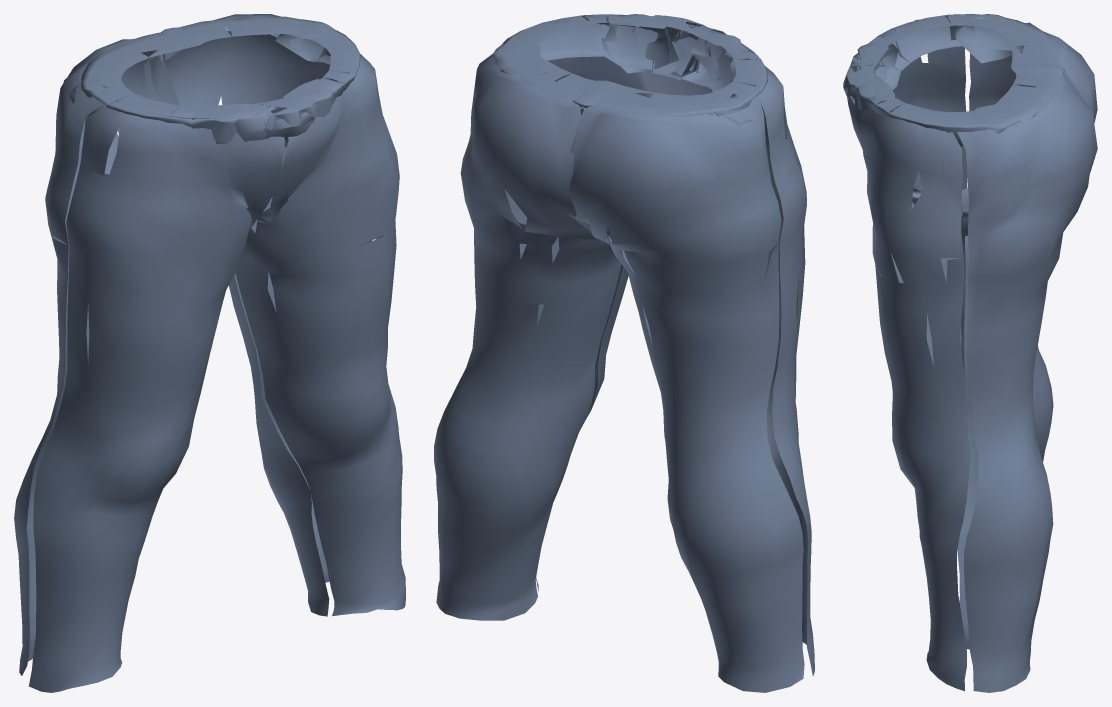
Rendered from cloth-trousers.glb.
3 views of the same model, side by side, from view 1: azimuth 30°, elevation 25°; view 2: azimuth 150°, elevation 25°; view 3: azimuth 270°, elevation 25° (orthographic). The views are drawn at different scales.
Parts seen in each view (by area): view 1: Cloth_trousers; view 2: Cloth_trousers; view 3: Cloth_trousers.
Boxes of the visible parts, x1,y1,x2,y2 form: Cloth_trousers: (14,14,405,692); Cloth_trousers: (434,14,814,692); Cloth_trousers: (843,14,1097,692).
Size of the model in its own units: 0.5891 by 0.8742 by 0.3714.
